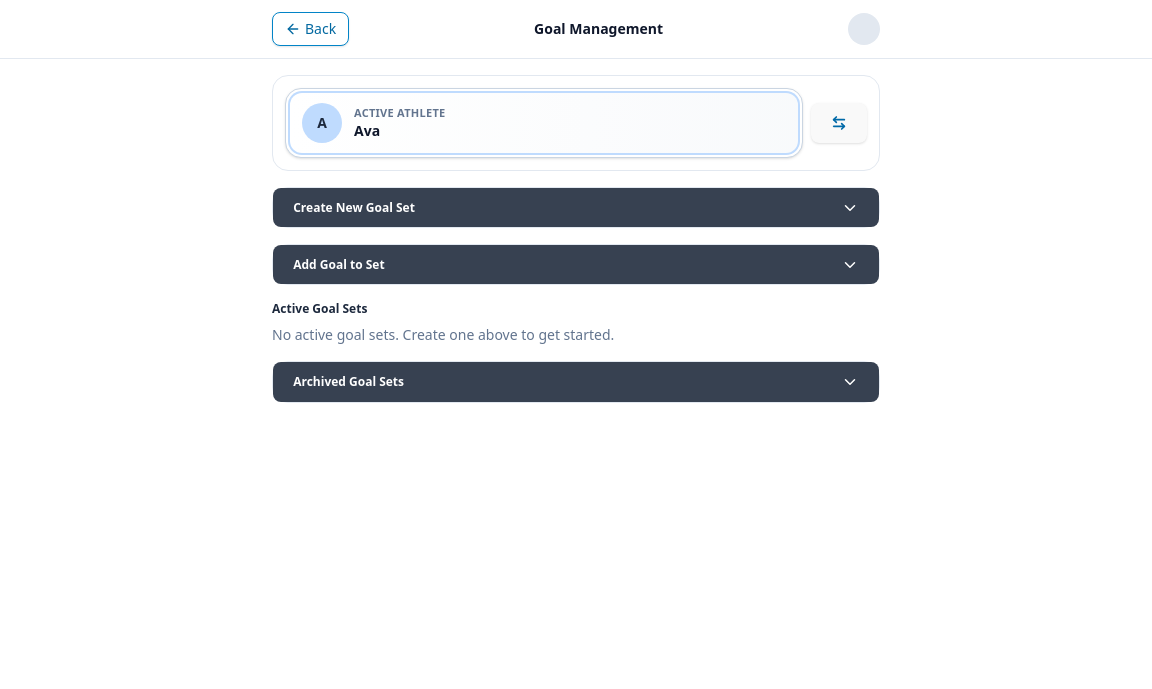
GoalsManager Component › should create a new goal set from the accordion form
Click the button "Create New Goal Set": (354, 207) [273, 188, 879, 227]
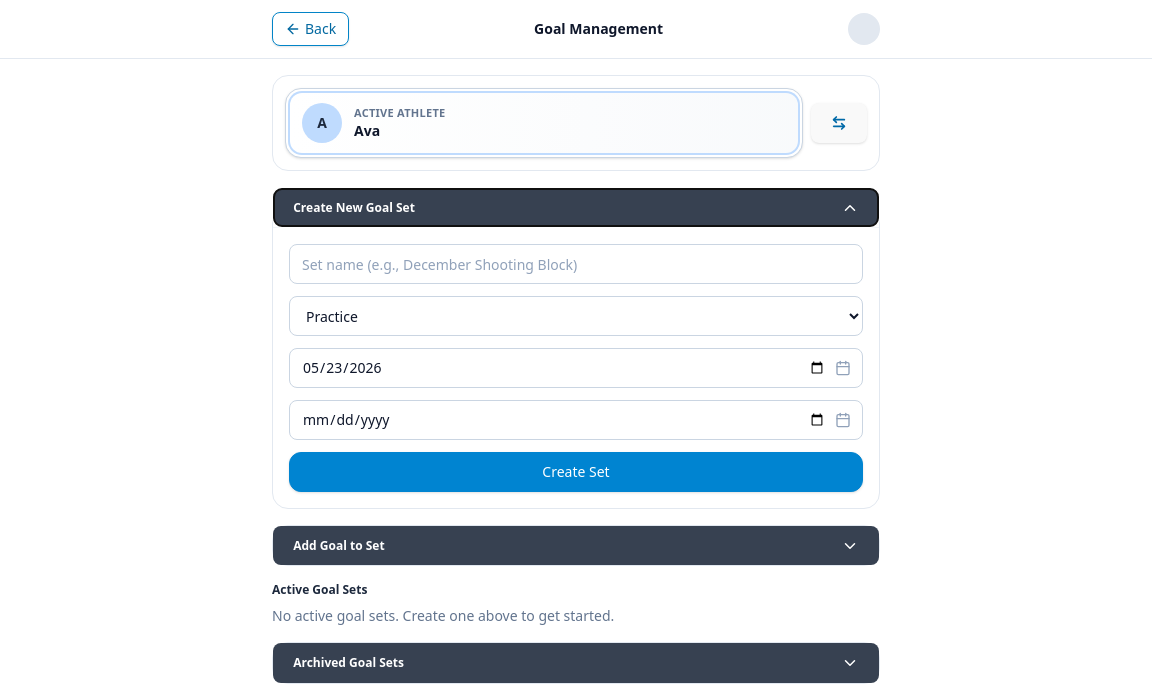
In the field with placeholder "Set name (e.g., December Shooting Block)": (576, 264) [289, 244, 863, 284], type "February Block"
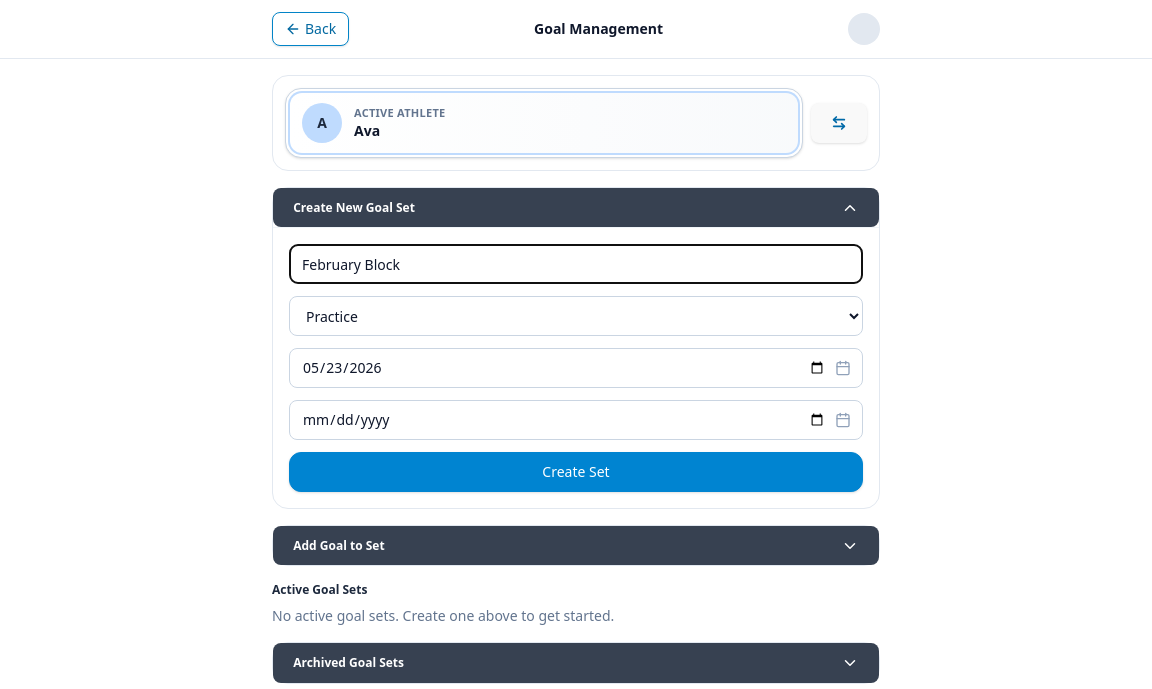
Select "Game" in the dropdown: (576, 316) [289, 296, 863, 336]
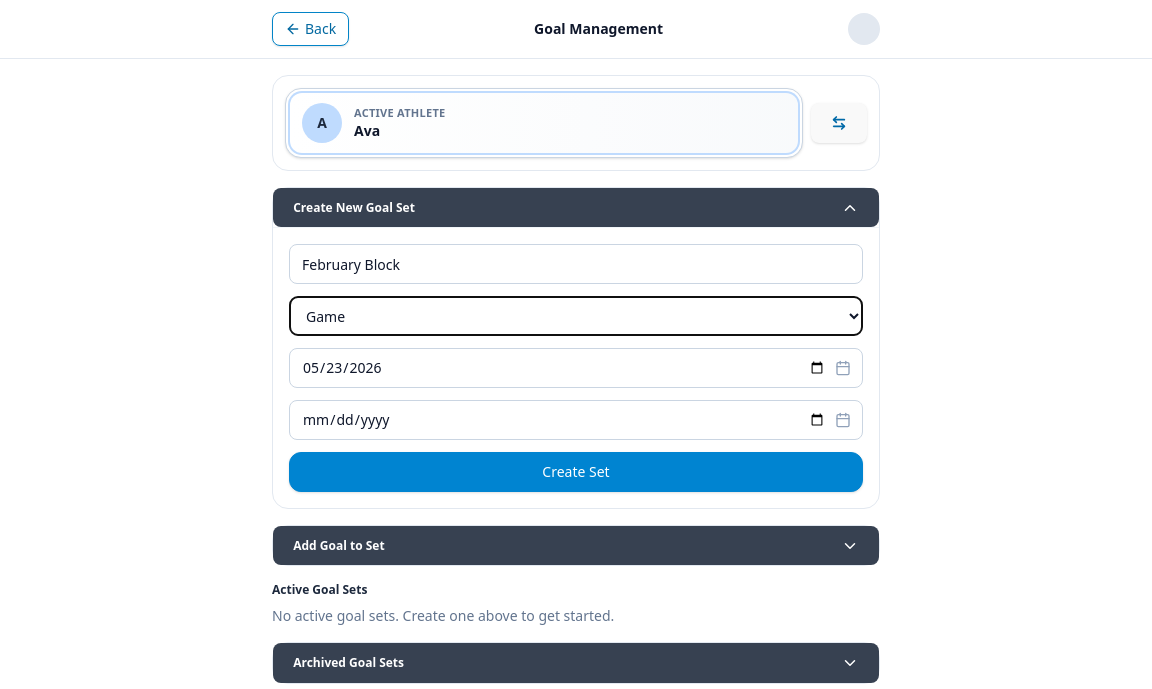
In the 1st date field: (576, 368) [289, 348, 863, 388], type "2026-02-01"
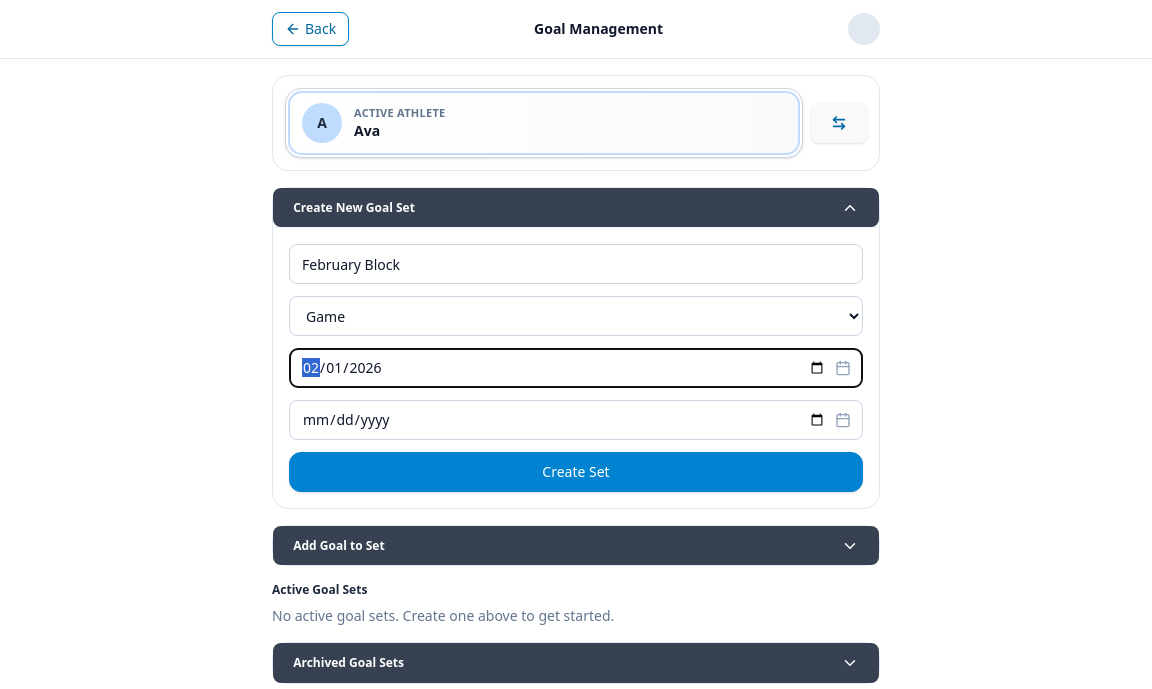
In the 2nd date field: (576, 420) [289, 400, 863, 440], type "2026-02-28"
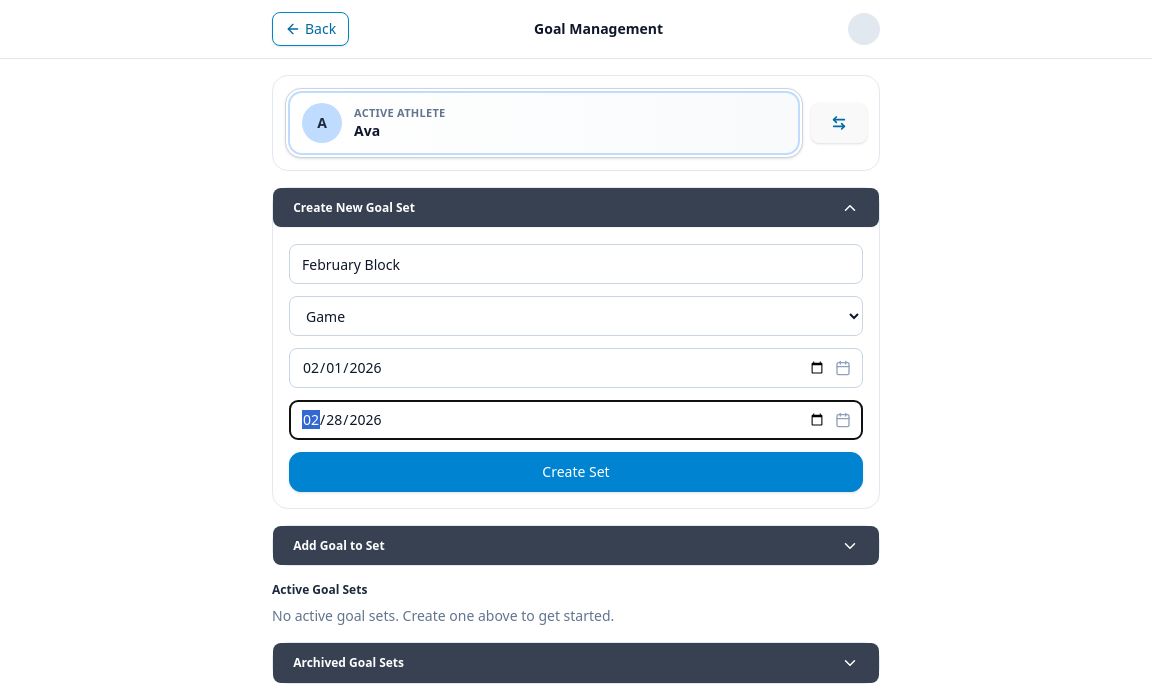
Click the button "Create Set": (576, 472) [289, 452, 863, 492]
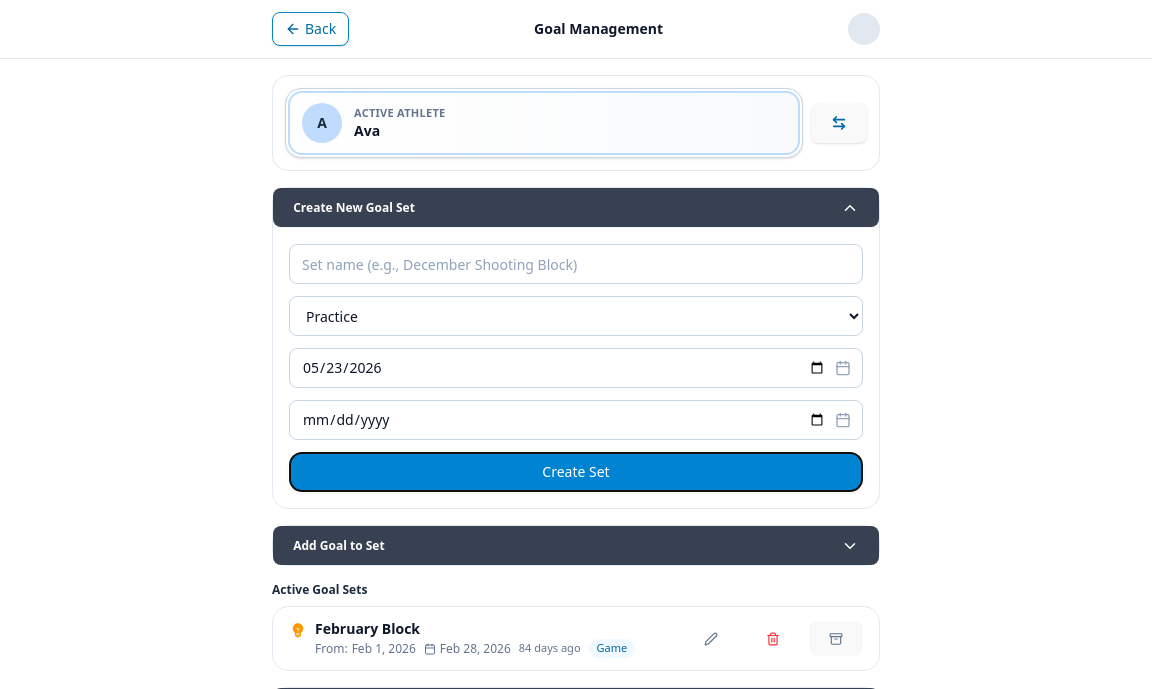
Result: the text "February Block" is shown at [315, 619, 420, 638]
